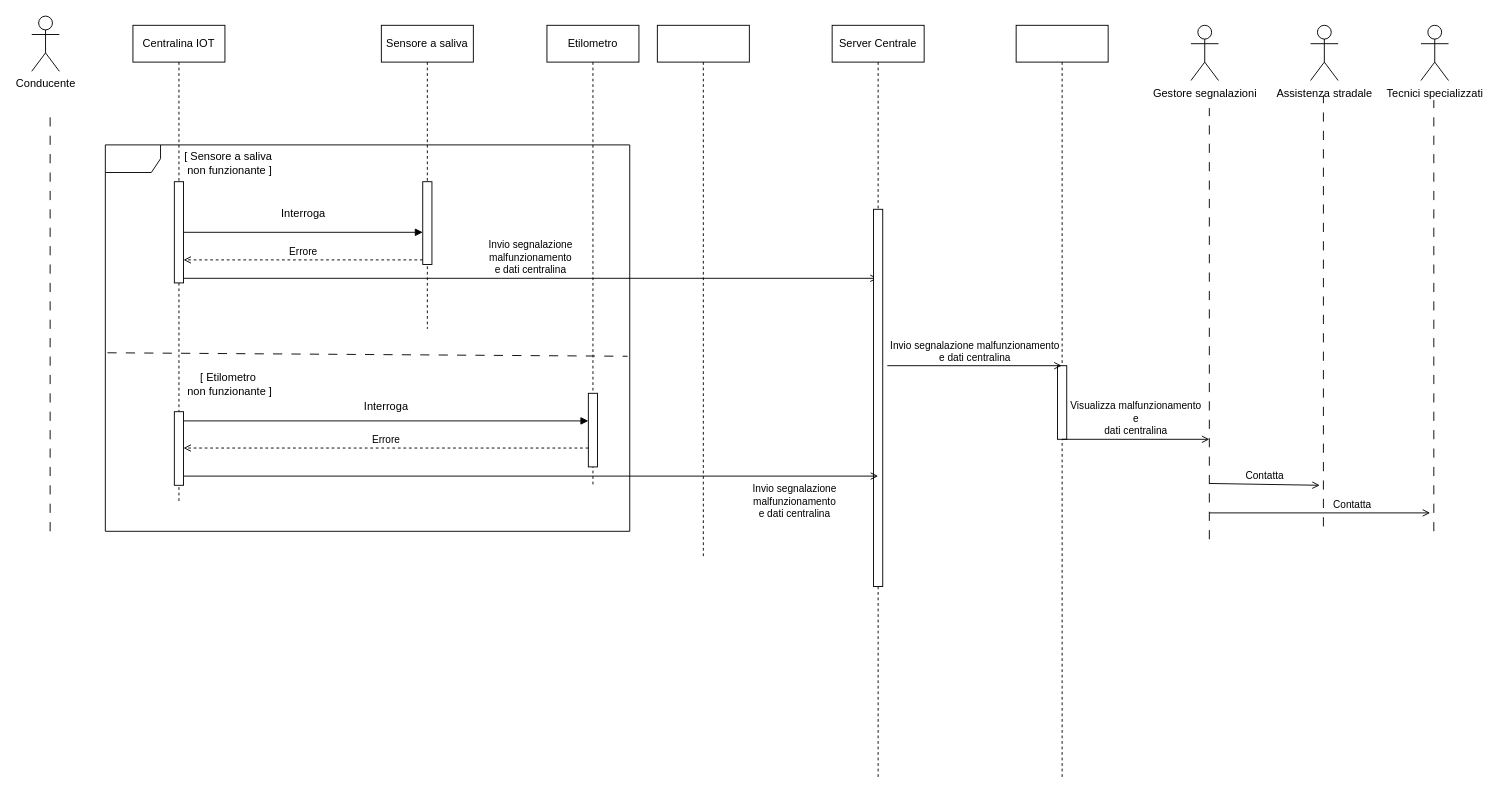
This 1499x796 diagram has some shape labels left out. Here are the shapes that lost their labels. From the top down, the box of each, then its label:
(656, 24, 749, 559): Centralina Veicolo
(104, 144, 630, 531): alt
(1015, 24, 1108, 780): Dashboard
